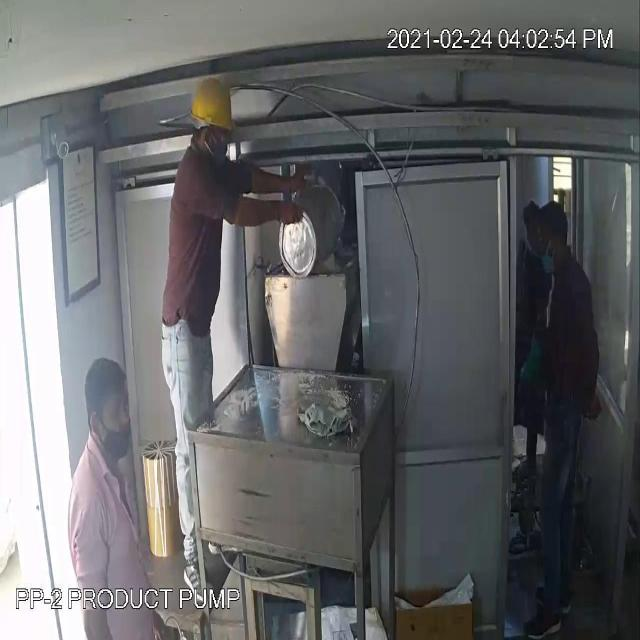helmet: (187, 72, 241, 144)
no-helmet: (81, 354, 136, 419)
